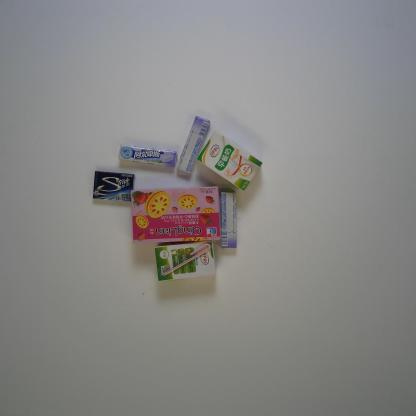Candy: (176, 115, 211, 174), (118, 144, 178, 167), (219, 191, 238, 250)
Dessert: (129, 186, 222, 244)
Gum: (92, 171, 135, 202)
Milk: (195, 130, 264, 191), (154, 240, 217, 283)
